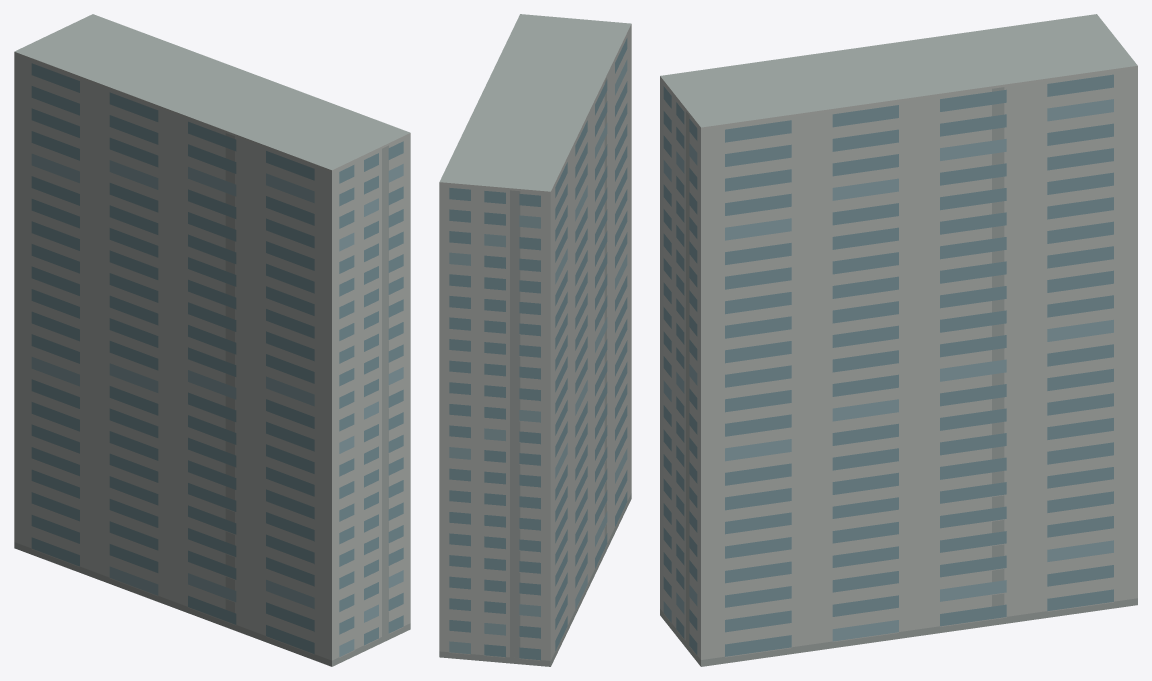
Rendered from residential-a34c4cec-0c00-409e-ba5d-7d8d63ed8c9c.glb.
3 renders of one model, left to right at view 1: azimuth 30°, elevation 25°; view 2: azimuth 150°, elevation 25°; view 3: azimuth 270°, elevation 25°, orthographic. The views are drawn at different scales.
Parts seen in each view (by area): view 1: residential-a34c4cec-0c00-409e-ba5d-7d8d63ed8c9c.tmp; view 2: residential-a34c4cec-0c00-409e-ba5d-7d8d63ed8c9c.tmp; view 3: residential-a34c4cec-0c00-409e-ba5d-7d8d63ed8c9c.tmp.
Part boxes in pixels (x1,y1,x2,y2): residential-a34c4cec-0c00-409e-ba5d-7d8d63ed8c9c.tmp: (14,14,410,666); residential-a34c4cec-0c00-409e-ba5d-7d8d63ed8c9c.tmp: (439,14,631,666); residential-a34c4cec-0c00-409e-ba5d-7d8d63ed8c9c.tmp: (660,14,1137,666).
Size of the model in its own units: 24.4 by 54 by 43.37.
